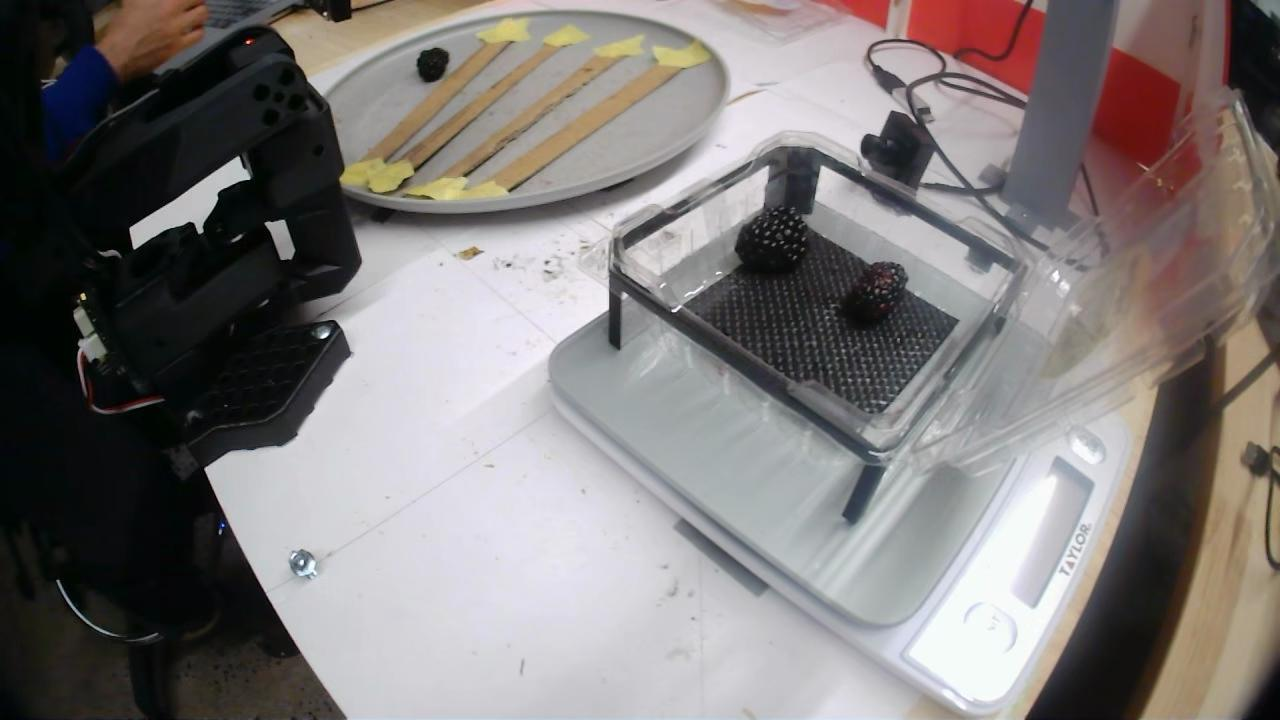berry: (735, 205, 808, 274), (838, 262, 907, 328), (417, 47, 449, 82)
